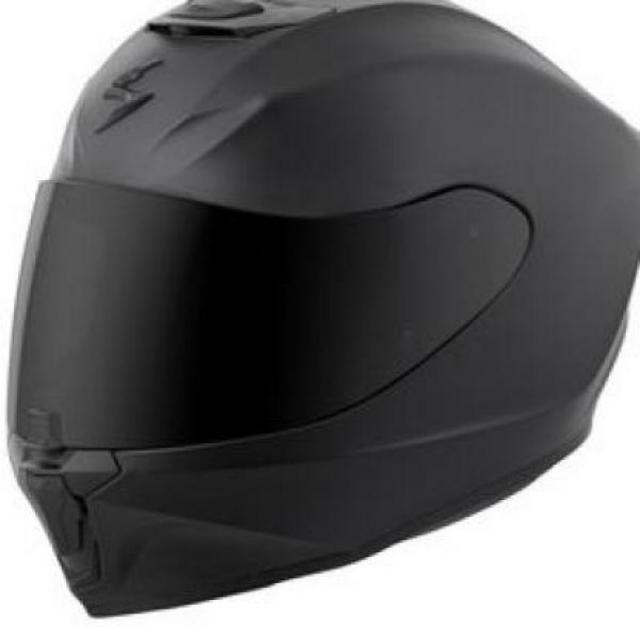Helmet: (13, 0, 640, 619)
